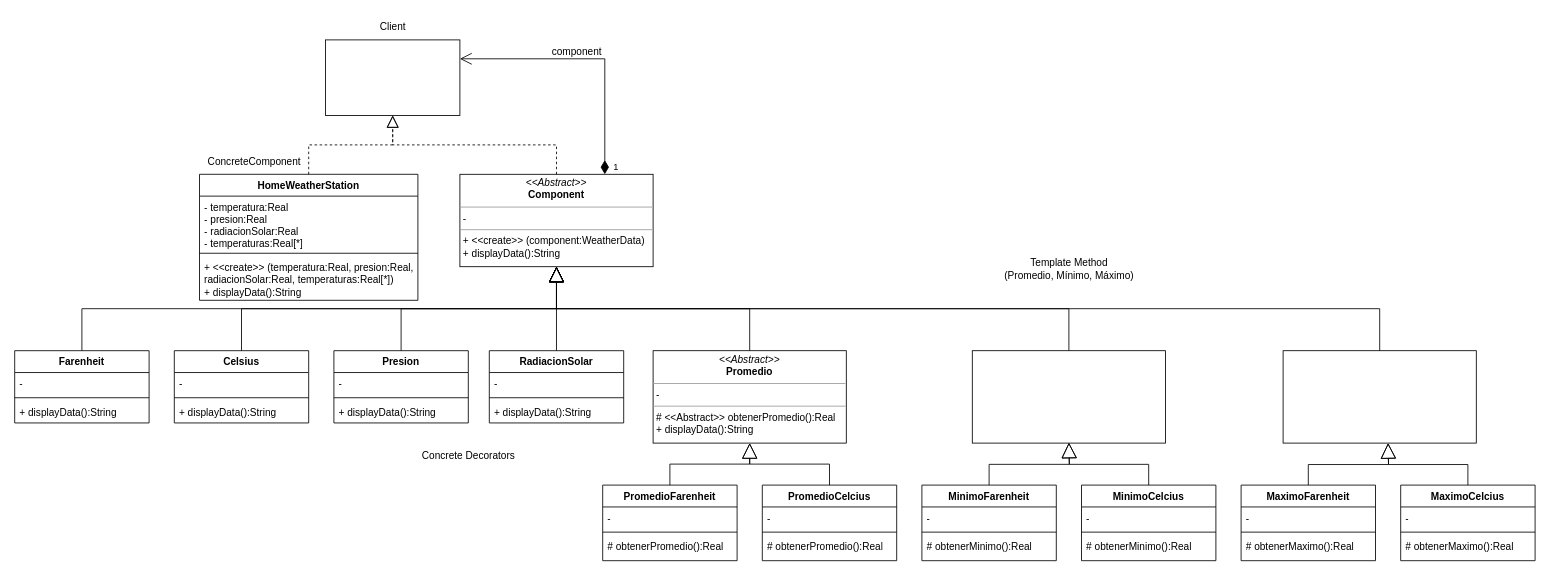
Some shapes in this 1550 by 577 pixel diagram are drawn without their labels. The shapes that lost their labels are listed below. From the top down, each one's centre as x and y in pixels, then its label:
the point at 392,77: <<Interface>> WeatherData - + displayData():String
the point at 1068,396: <<Abstract>> Minimo - # <<Abstract>> obtenerMinimo():Real + displayData():String
the point at 1379,396: <<Abstract>> Maximo - # <<Abstract>> obtenerMaximo():Real + displayData():String
